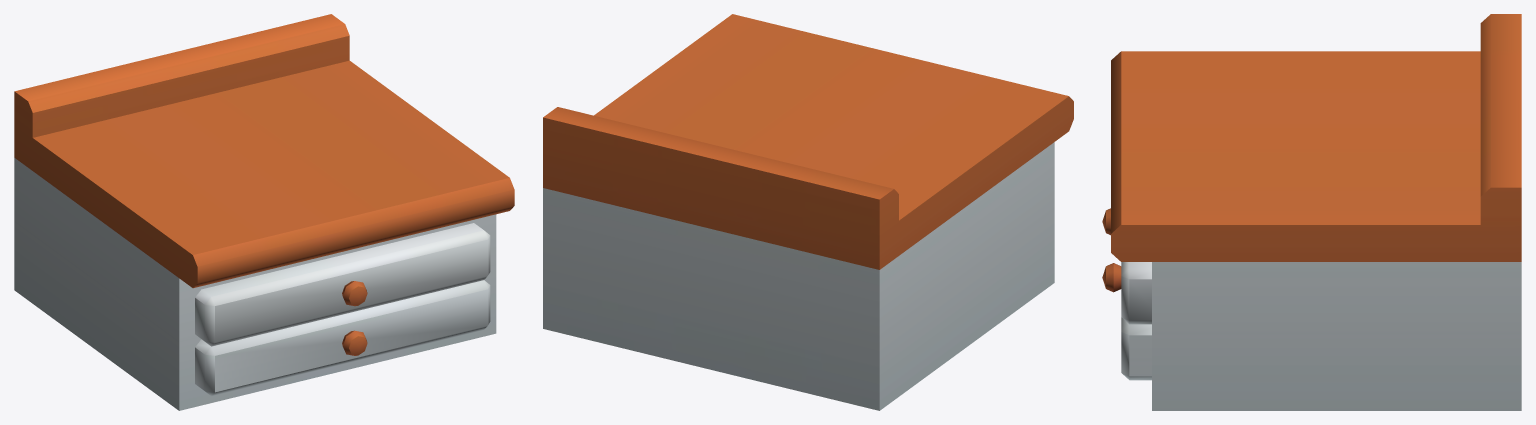
Rendered from kitchencounter-straight-a-backsplash.glb.
The picture shows the model from 3 angles, left to right: view 1: azimuth 30°, elevation 25°; view 2: azimuth 150°, elevation 25°; view 3: azimuth 270°, elevation 25°; orthographic projection. The views are drawn at different scales.
Parts seen in each view (by area): view 1: kitchencounter_straight_A_backsplash; view 2: kitchencounter_straight_A_backsplash; view 3: kitchencounter_straight_A_backsplash.
Boxes of the visible parts, box(x1,y1,x2,y2) form: kitchencounter_straight_A_backsplash: box(14, 14, 514, 410); kitchencounter_straight_A_backsplash: box(543, 14, 1073, 410); kitchencounter_straight_A_backsplash: box(1102, 14, 1521, 410).
Size of the model in its own units: 2 by 1.2 by 2.04.
Materials: 1 (1 with a texture image).
